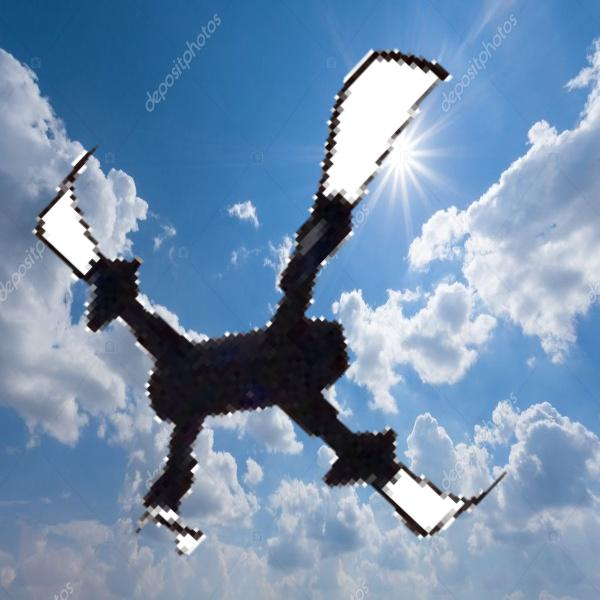drone: (5, 14, 591, 600)
